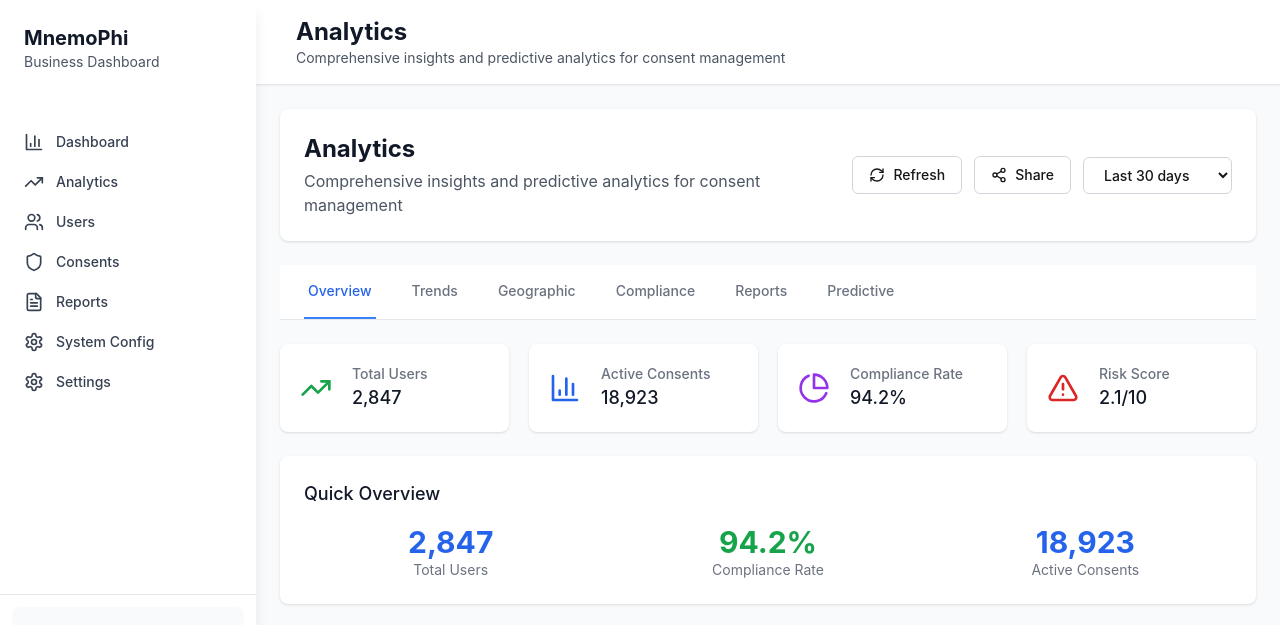
AdvancedAnalyticsPage › shows custom date range inputs when custom is selected
The width and height of the screenshot is (1280, 625).
Step 1. Select "Custom range" in the dropdown showing "Last 30 days" → x=1158, y=175, box x1=1083 y1=156 x2=1232 y2=194
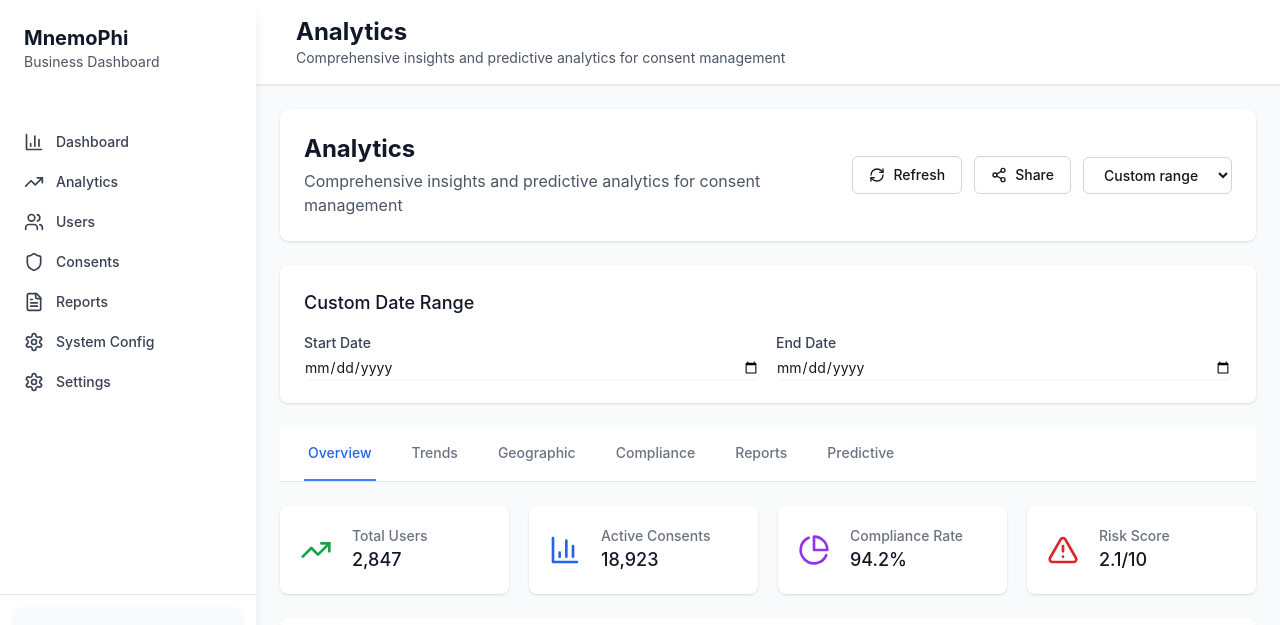
Check: the heading "Custom Date Range" is shown, box x1=304 y1=292 x2=474 y2=313
Check: the text "Start Date" is shown, box x1=304 y1=334 x2=371 y2=351
Check: the text "End Date" is shown, box x1=776 y1=334 x2=836 y2=351
